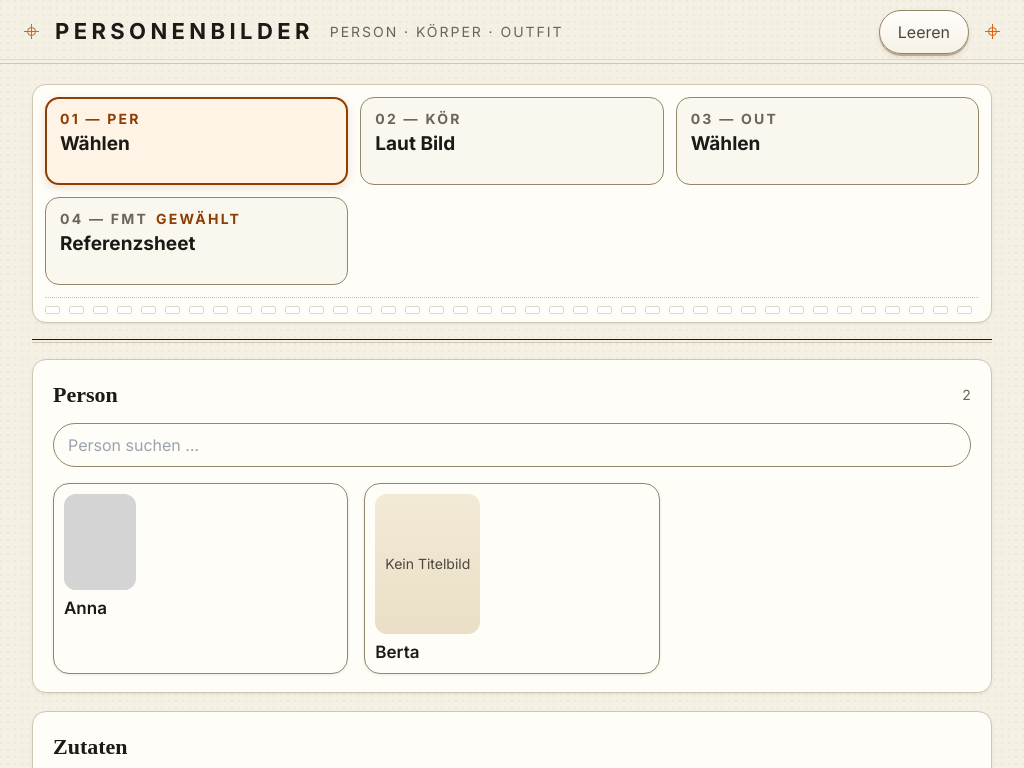
Test: Alles auf einmal › sagt VOR dem Klick, wie viele Bilder es werden
Click the button "Anna" at (100, 542), box x1=53 y1=483 x2=348 y2=674
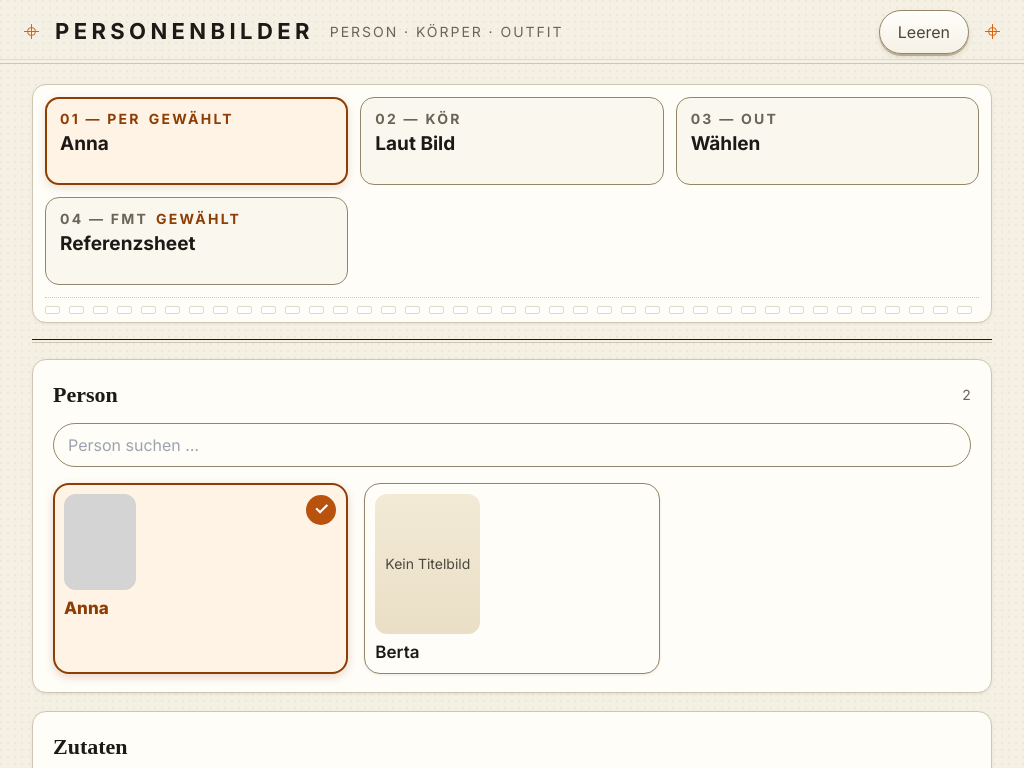
Click the tab "03 — OUT Wählen" at (734, 118), box x1=676 y1=97 x2=979 y2=185
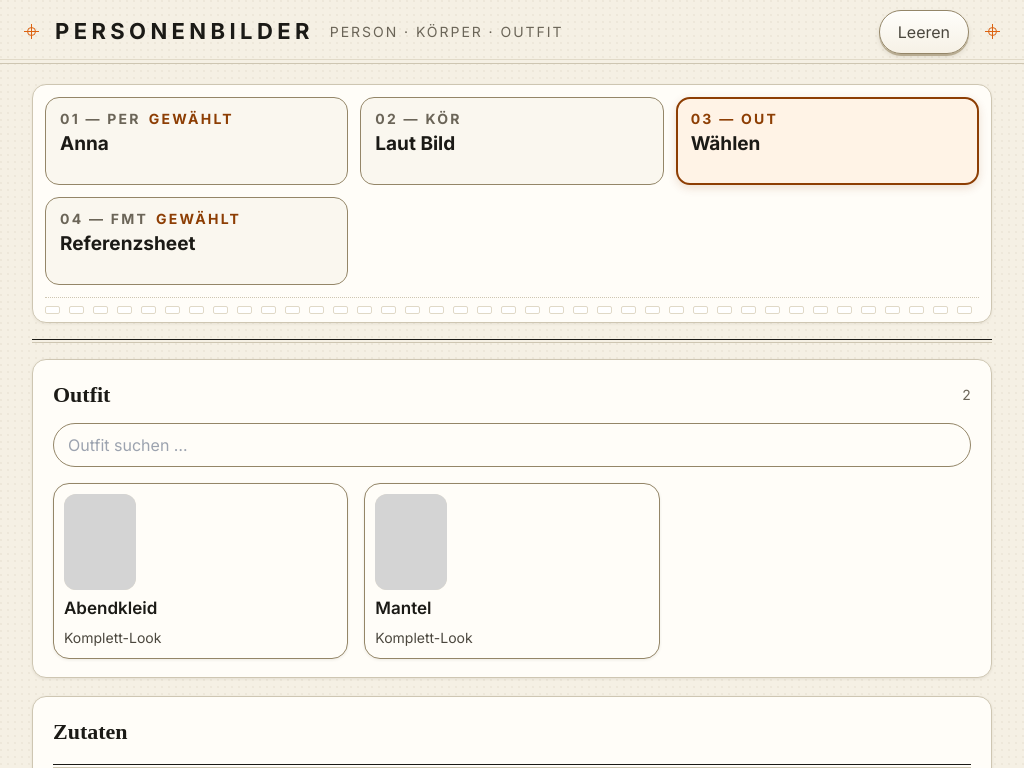
Click the button "Abendkleid Komplett-Look" at (100, 542), box x1=53 y1=483 x2=348 y2=659
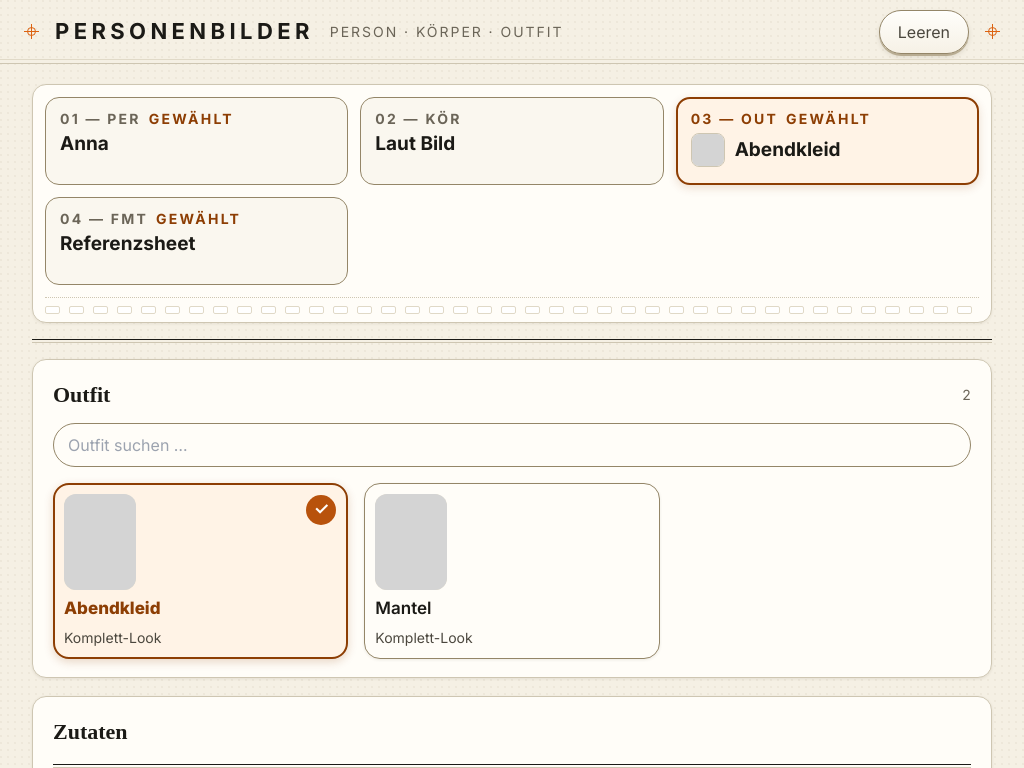
Click the tab "04 — FMT GEWÄHLT Referenzsheet" at (197, 241), box x1=45 y1=197 x2=348 y2=285
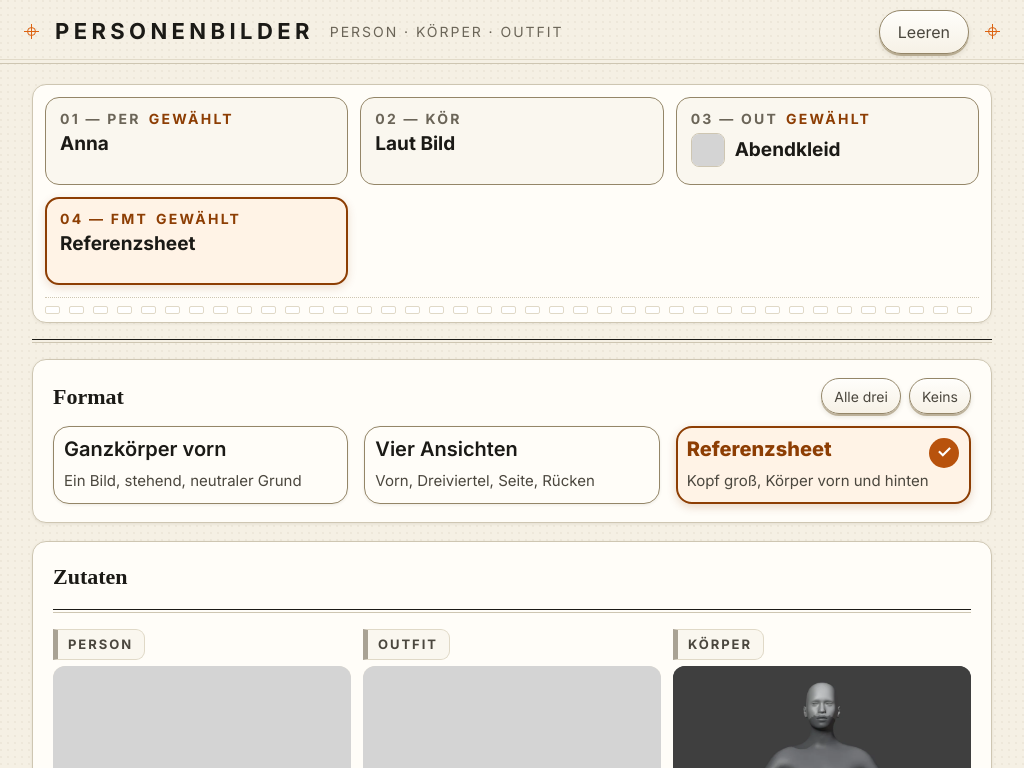
Click the button "Alle drei" at (861, 396), box x1=821 y1=378 x2=901 y2=414
(page scrolled)
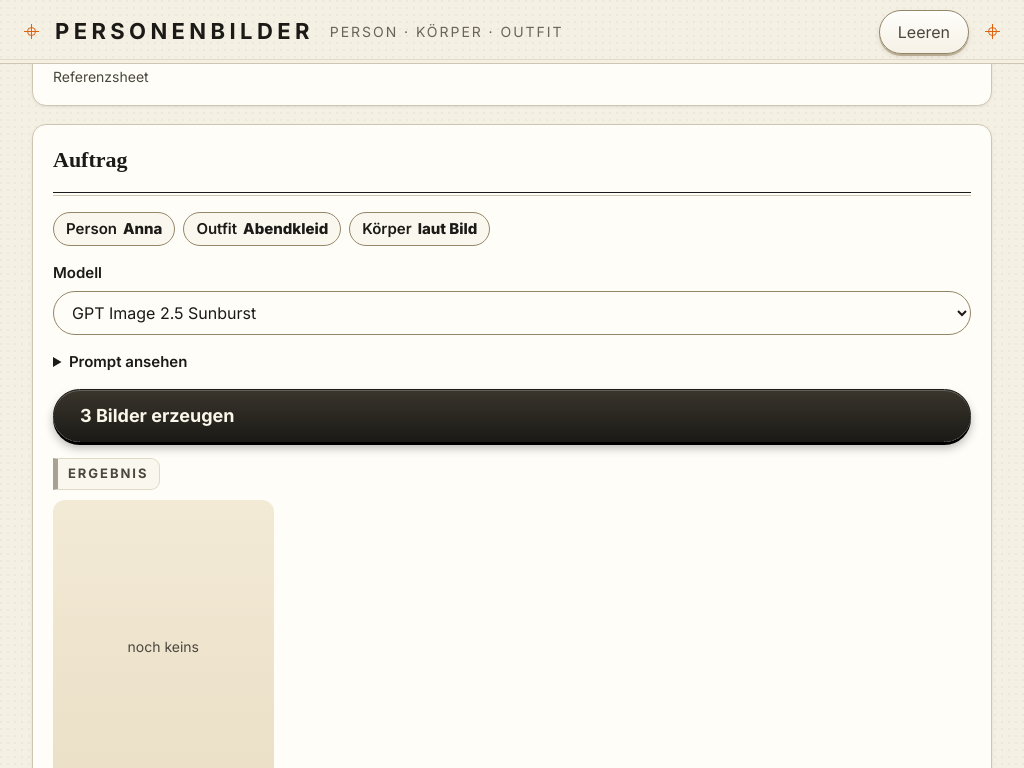
Expected: the button "3 Bilder erzeugen" is shown, x1=53 y1=389 x2=971 y2=442
